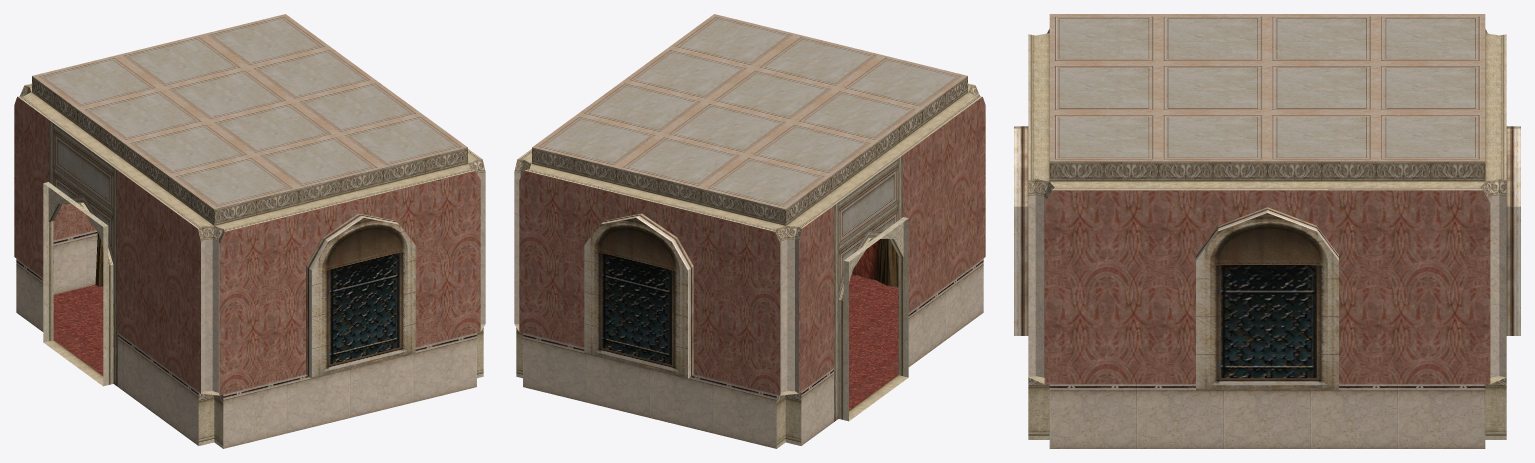
File: ply_nboo_house_sm_s02_fp1_r3_room1_mesh_r3.fbx
3 views of the same model, side by side, from view 1: azimuth 30°, elevation 25°; view 2: azimuth 150°, elevation 25°; view 3: azimuth 270°, elevation 25° (orthographic). The views are drawn at different scales.
Parts seen in each view (by area): view 1: mesh_node; view 2: mesh_node; view 3: mesh_node.
Part boxes in pixels (x1=…): mesh_node: x1=14, y1=14, x2=485, y2=448; mesh_node: x1=514, y1=14, x2=985, y2=448; mesh_node: x1=1014, y1=14, x2=1520, y2=448.
Size of the model in its own units: 5.9 by 4.3 by 7.1.
